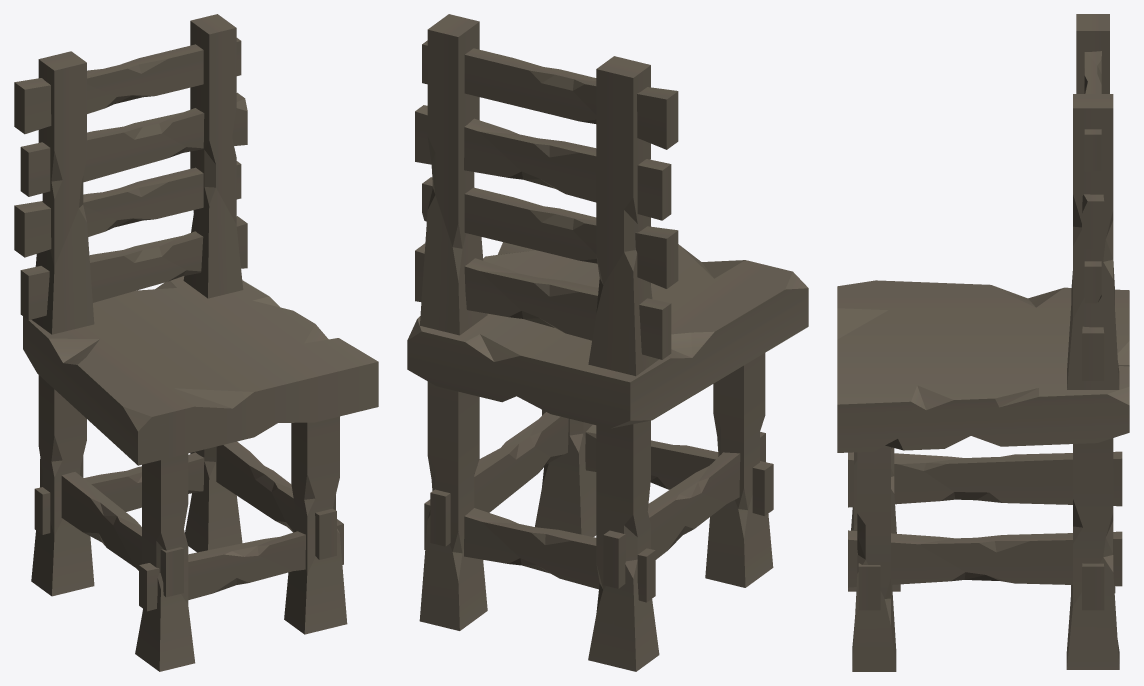
File: SM_Chair.FBX
3 views of the same model, side by side, from view 1: azimuth 30°, elevation 25°; view 2: azimuth 150°, elevation 25°; view 3: azimuth 270°, elevation 25° (orthographic). The views are drawn at different scales.
Visible parts, largest first — view 1: SM_Chair; view 2: SM_Chair; view 3: SM_Chair.
Part boxes in pixels (x1,y1,x2,y2): SM_Chair: (14,14,378,671); SM_Chair: (407,14,808,671); SM_Chair: (837,14,1129,671).
Size of what is drawn, in the model's own units: 51.26 by 50.4 by 106.
